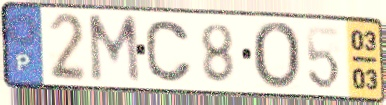2: (46, 10, 89, 83)
5: (304, 24, 343, 91)
8: (198, 22, 237, 85)
C: (143, 18, 195, 85)
M: (85, 13, 143, 87)
O: (250, 19, 303, 92)
